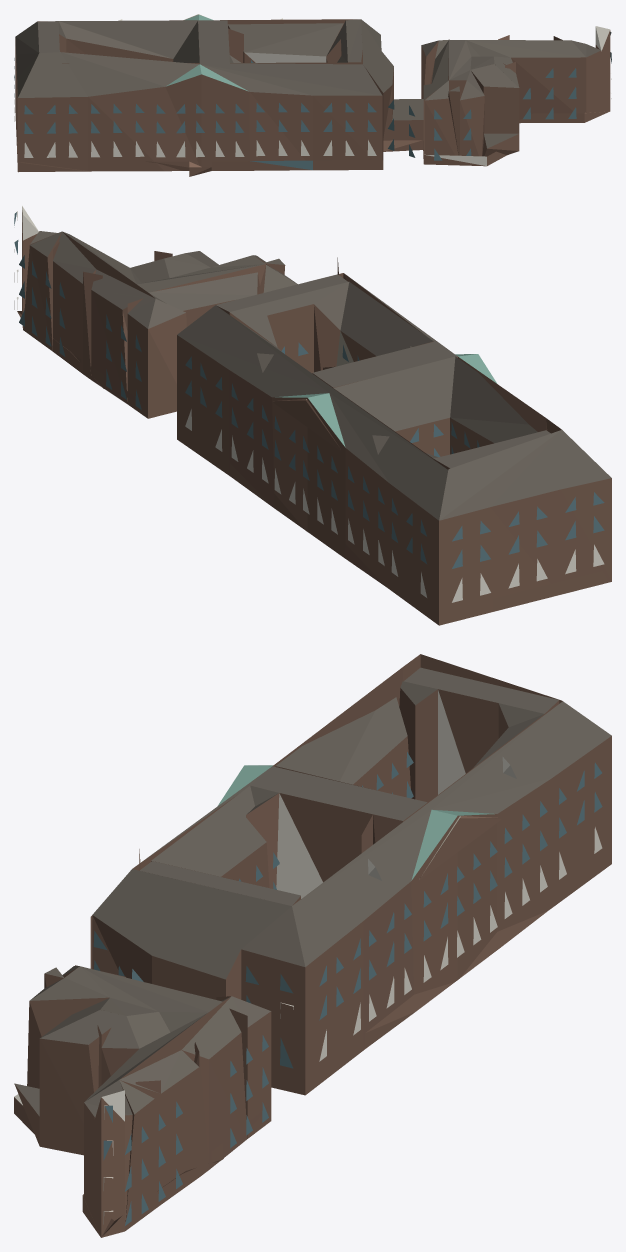
Rendered from luther-museum.lod2.glb.
3 renders of one model, top to bottom at view 1: azimuth 30°, elevation 25°; view 2: azimuth 150°, elevation 25°; view 3: azimuth 270°, elevation 25°, orthographic. The views are drawn at different scales.
Parts seen in each view (by area): view 1: lod2; view 2: lod2; view 3: lod2.
Part boxes in pixels (box(x1,y1,x2,y2)): lod2: box(14, 14, 611, 176); lod2: box(14, 206, 611, 625); lod2: box(14, 654, 611, 1237).
Size of the model in its own units: 109 by 23.02 by 64.72.
